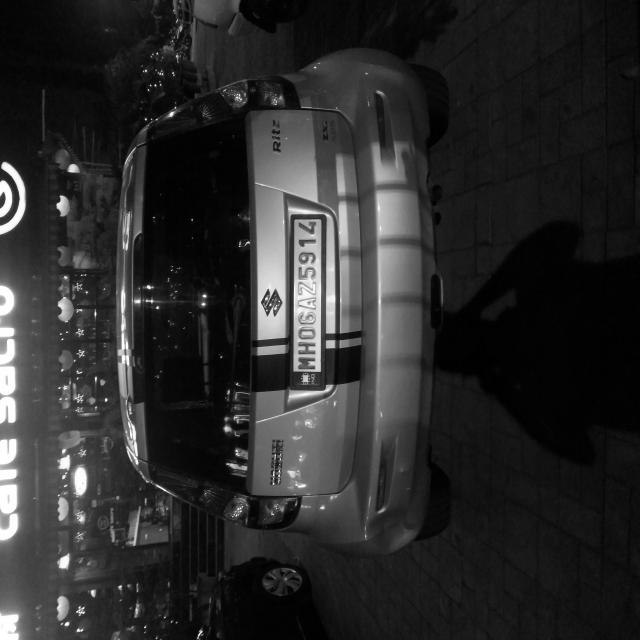car: (61, 156, 448, 621)
license-plate: (191, 386, 320, 437)
